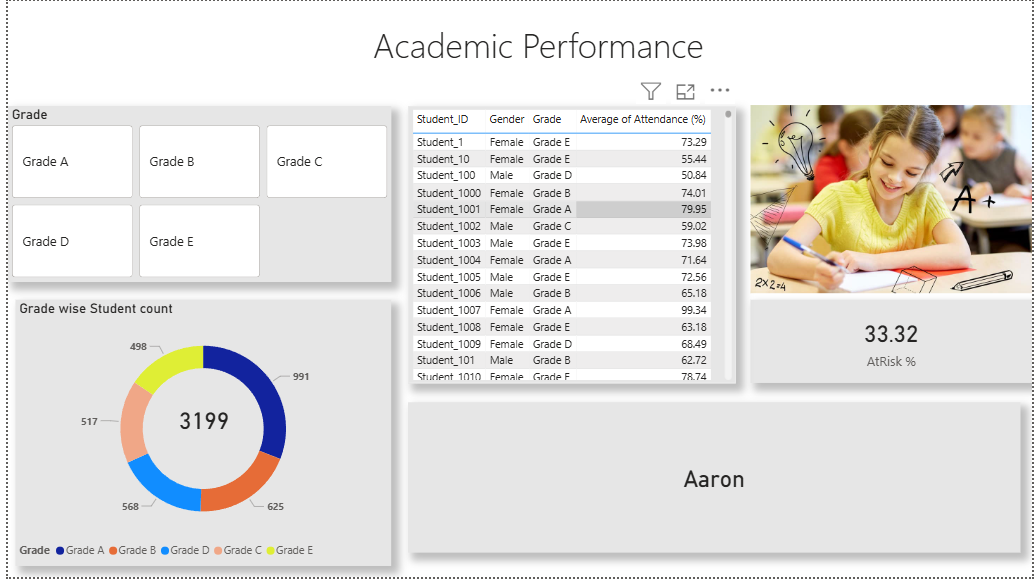

Layout of this report page (visuals, bound fields, positions):
{"tool":"powerbi","page":{"name":"Academic performance","canvas":[1280,720],"ordinal":1},"visuals":[{"type":"donutChart","title":"Grade wise Student count","fields":{"Category":["StudentData.Grade"],"Y":["CountNonNull(StudentData.Student_ID)"]},"box":[9.8,374.2,469.6,332.6],"z":0},{"type":"card","fields":{"Values":["StudentData.Total Students"]},"box":[207.9,506.3,74.6,34.2],"z":1000},{"type":"advancedSlicerVisual","fields":{"Values":["StudentData.Grade"]},"box":[0,130.8,479.4,220.1],"z":2000},{"type":"card","fields":{"Values":["StudentData.AtRisk %"]},"box":[928.1,374.2,352.2,103.9],"z":3000},{"type":"tableEx","fields":{"Values":["StudentData.Student_ID","StudentData.Gender","StudentData.Grade","Avg(StudentData.Attendance (%))"]},"box":[500.1,130.8,409.6,347.3],"z":4000},{"type":"textbox","box":[386.4,19.6,553.9,81.9],"z":5000},{"type":"image","box":[928.1,81.9,352.2,332.6],"z":6000},{"type":"card","fields":{"Values":["Min(StudentData.First_Name)"]},"box":[500.1,501.4,765.5,188.3],"z":7000}]}

Visuals, with their boxes in screenshot pixels (x1, y1, x2, y2), scaled from the page's 1280x720 canvas onto the 1036x584 screenshot:
"Grade wise Student count" donutChart: x1=8, y1=304, x2=388, y2=573
card - StudentData.Total Students: x1=168, y1=411, x2=229, y2=438
advancedSlicerVisual - StudentData.Grade: x1=0, y1=106, x2=388, y2=285
card - StudentData.AtRisk %: x1=751, y1=304, x2=1035, y2=388
tableEx - StudentData.Student_ID x StudentData.Gender: x1=405, y1=106, x2=736, y2=388
textbox: x1=313, y1=16, x2=761, y2=82
image: x1=751, y1=66, x2=1035, y2=336
card - Min(StudentData.First_Name): x1=405, y1=407, x2=1024, y2=559
